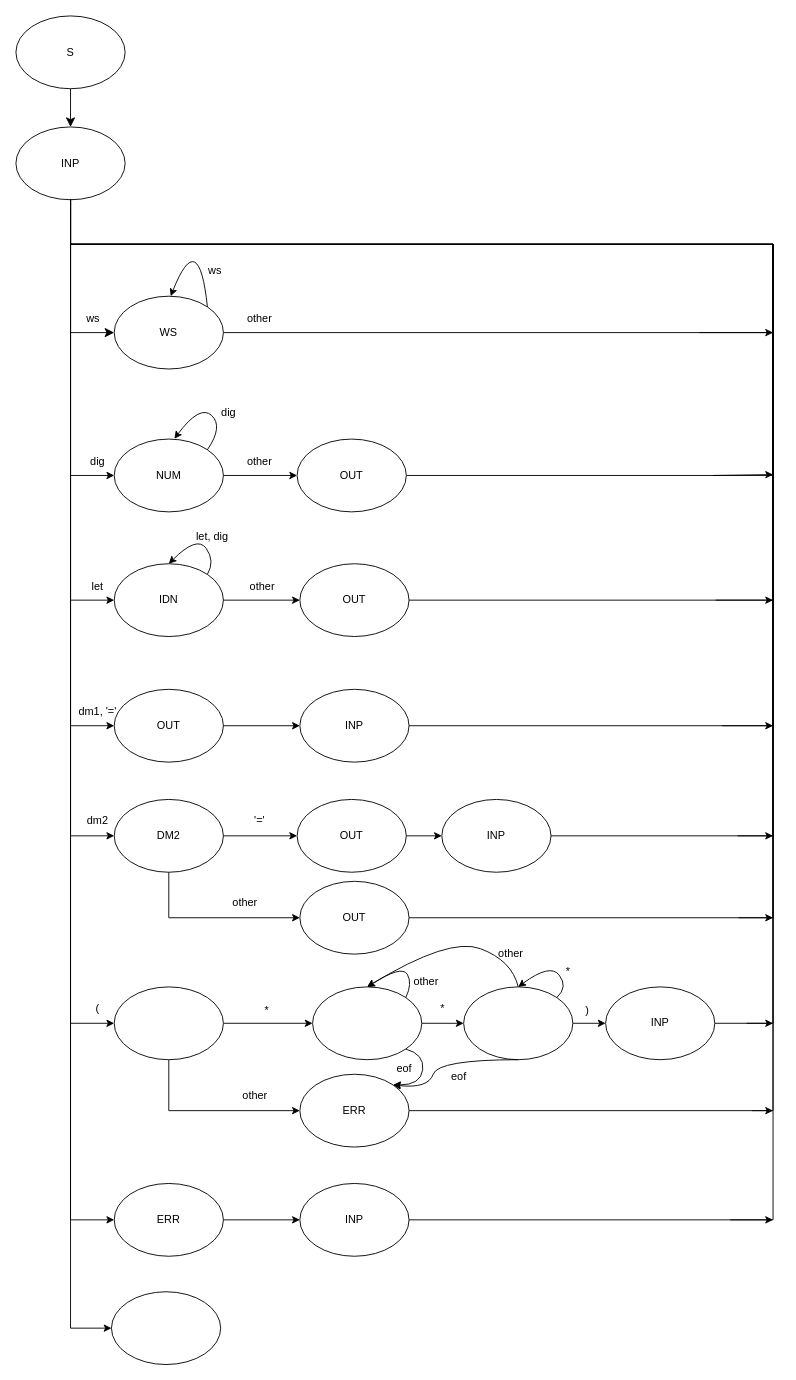
This 796x1380 diagram has some shape labels left out. Here are the shapes that lost their labels. From the top down, the box of each, then its label:
(113, 986, 223, 1060): BCOM
(312, 986, 422, 1060): COM
(463, 986, 573, 1060): ECOM
(111, 1291, 221, 1365): EXIT
